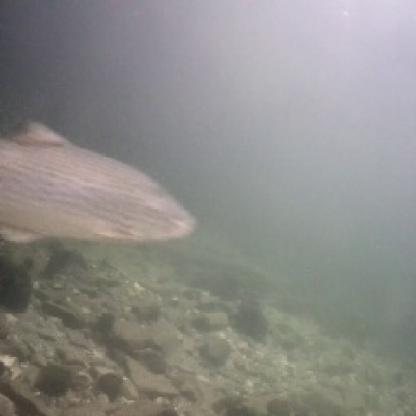salmon: (0, 116, 201, 248)
